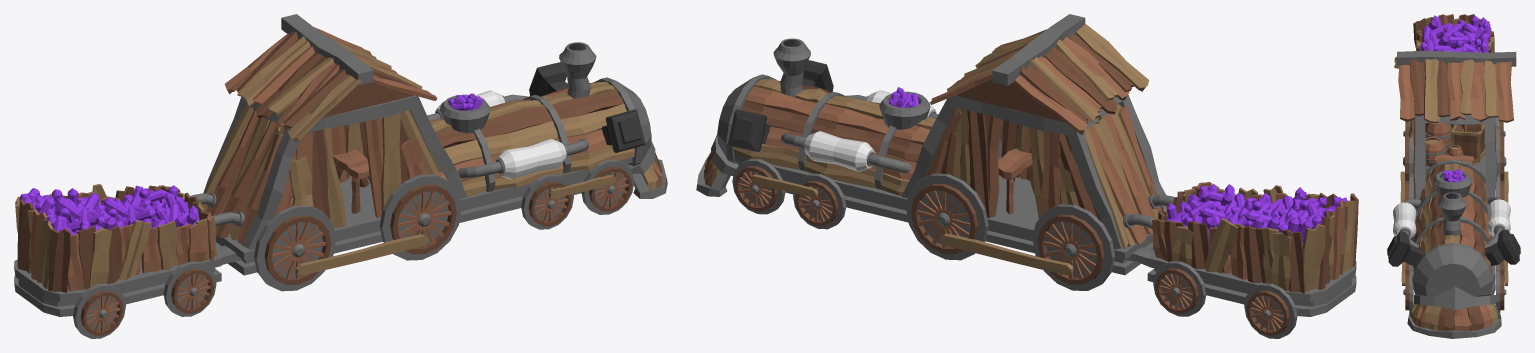
File: TrainAndCart.fbx
The picture shows the model from 3 angles, left to right: view 1: azimuth 30°, elevation 25°; view 2: azimuth 150°, elevation 25°; view 3: azimuth 270°, elevation 25°; orthographic projection. The views are drawn at different scales.
Visible parts, largest first — view 1: Cylinder.046, Cylinder.044, Cube.354, Cylinder.047, Cylinder.041, Cube.405, Cube.367, Cube.397, Cylinder.053, Cube.462, Cube.376, Cylinder.040 (+59 smaller); view 2: Cube.354, Cylinder.045, Cylinder.043, Cylinder.048, Cylinder.042, Cube.405, Cube.397, Cylinder.050, Cube.364, Cube.463, Cube.399, Cube.360 (+58 smaller); view 3: Cylinder.035, Cube.397, Cylinder.036, Cube.396, Cube.366, Cylinder.040, Compressor.004, Cube.390, Cube.365, Cube.465, Compressor.003, Cylinder.038 (+56 smaller).
Part boxes in pixels (x1,y1,x2,y2): Cylinder.046: (254, 205, 336, 291); Cylinder.044: (379, 174, 461, 260); Cube.354: (215, 130, 632, 275); Cylinder.047: (73, 261, 216, 338); Cylinder.041: (521, 159, 634, 229); Cube.405: (14, 255, 221, 316); Cube.367: (242, 128, 300, 249); Cube.397: (281, 14, 373, 85); Cylinder.053: (496, 139, 566, 179); Cube.462: (295, 234, 428, 275); Cube.376: (381, 112, 401, 211); Cylinder.040: (559, 42, 596, 98); Cube.354: (734, 127, 1153, 275); Cylinder.045: (1032, 204, 1114, 290); Cylinder.043: (906, 173, 988, 260); Cylinder.048: (1153, 261, 1297, 338); Cylinder.042: (732, 158, 846, 229); Cube.405: (1147, 253, 1356, 316); Cube.397: (992, 14, 1085, 85); Cylinder.050: (804, 131, 875, 171); Cube.364: (1066, 129, 1122, 249); Cube.463: (939, 233, 1073, 275); Cube.399: (956, 79, 1065, 122); Cube.360: (967, 110, 990, 218); Cylinder.035: (1412, 242, 1493, 296); Cube.397: (1397, 50, 1516, 66); Cylinder.036: (1414, 286, 1496, 311); Cube.396: (1496, 61, 1513, 122); Cube.366: (1414, 116, 1426, 210); Cylinder.040: (1438, 192, 1466, 235); Compressor.004: (1485, 229, 1520, 265); Cube.390: (1424, 59, 1439, 122); Cube.365: (1484, 117, 1497, 197); Cube.465: (1450, 124, 1485, 163); Compressor.003: (1387, 231, 1422, 266); Cylinder.038: (1407, 304, 1501, 338).
Size of the model in its own units: 1335 by 427 by 316.
